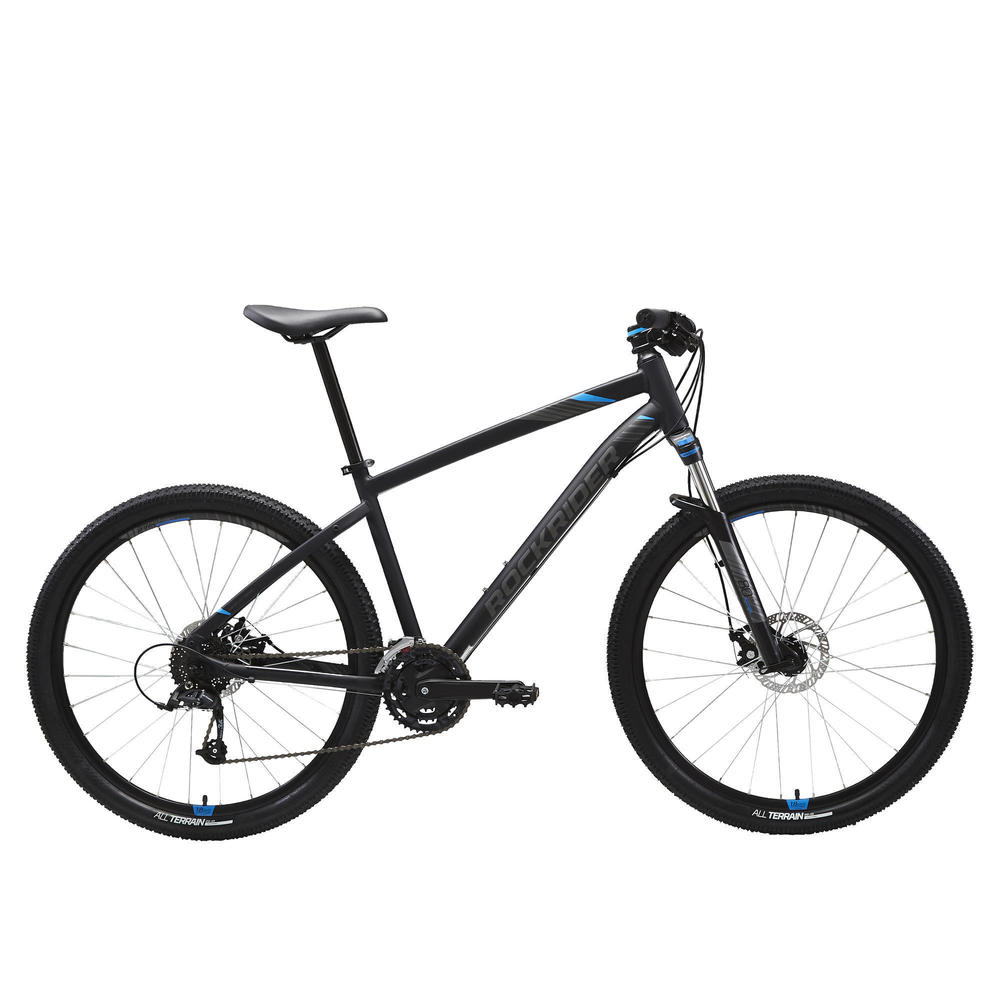MountainBike: (14, 294, 985, 865)
